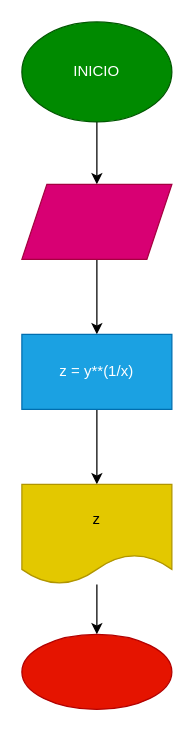
The diagram is 194 pixels wide and 731 high, and some of its shapes have lost their labels. Here are the shapes that lost their labels. From the top down, the box of each, then its label:
(21, 183, 172, 259): x, y
(21, 633, 172, 709): FIN
